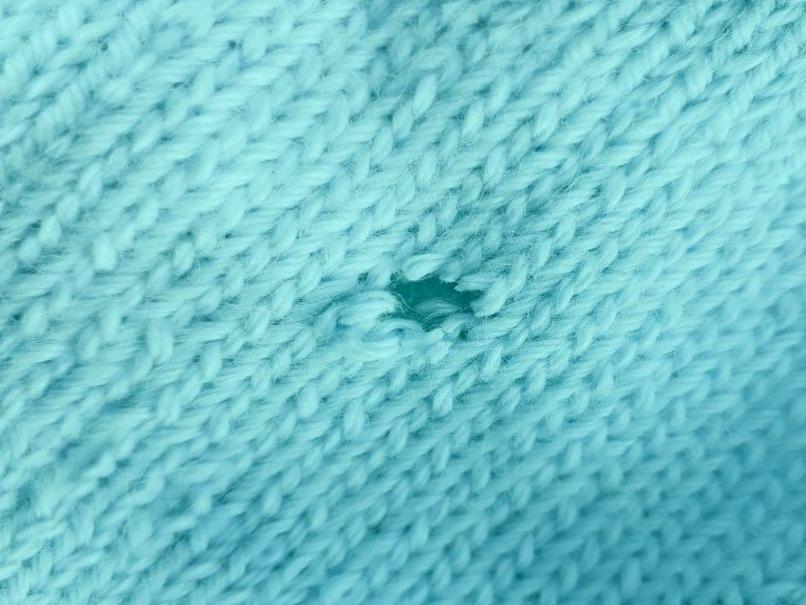hole: (375, 252, 501, 348)
